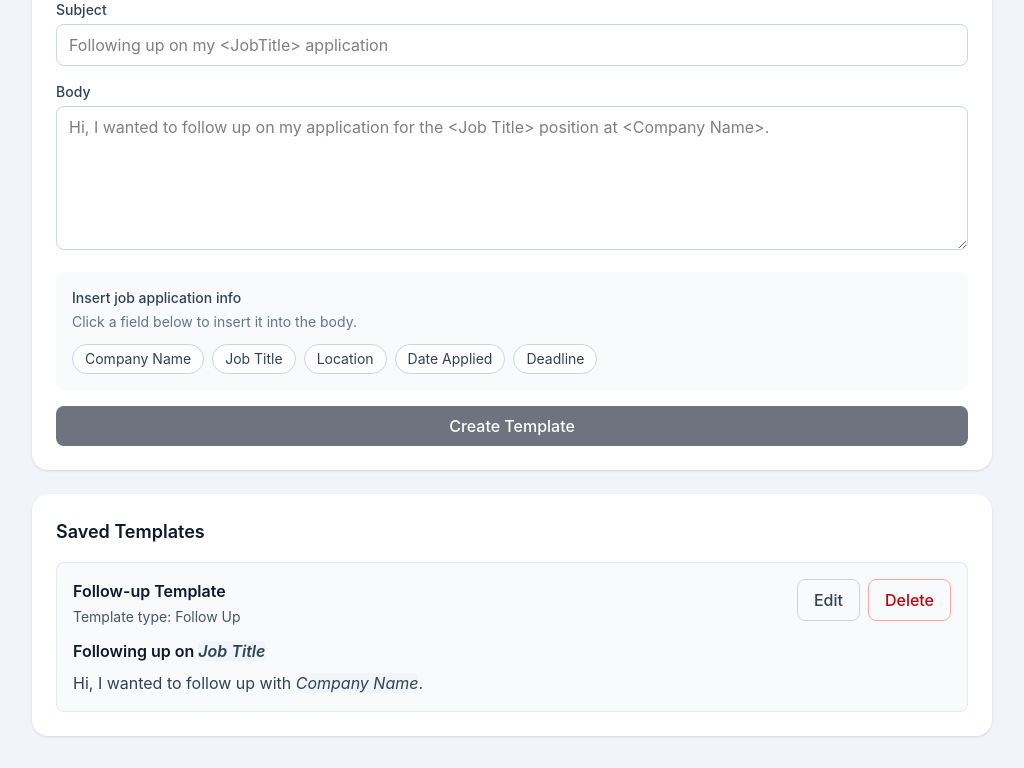
Test: EmailTemplatesPage › loads selected template into the form when Edit is clicked
(page scrolled)
Check: the heading "Follow-up Template" is shown, box [73,581,226,601]
Click the button "Edit".
click(828, 600)  # box [797,579,860,621]
(page scrolled)
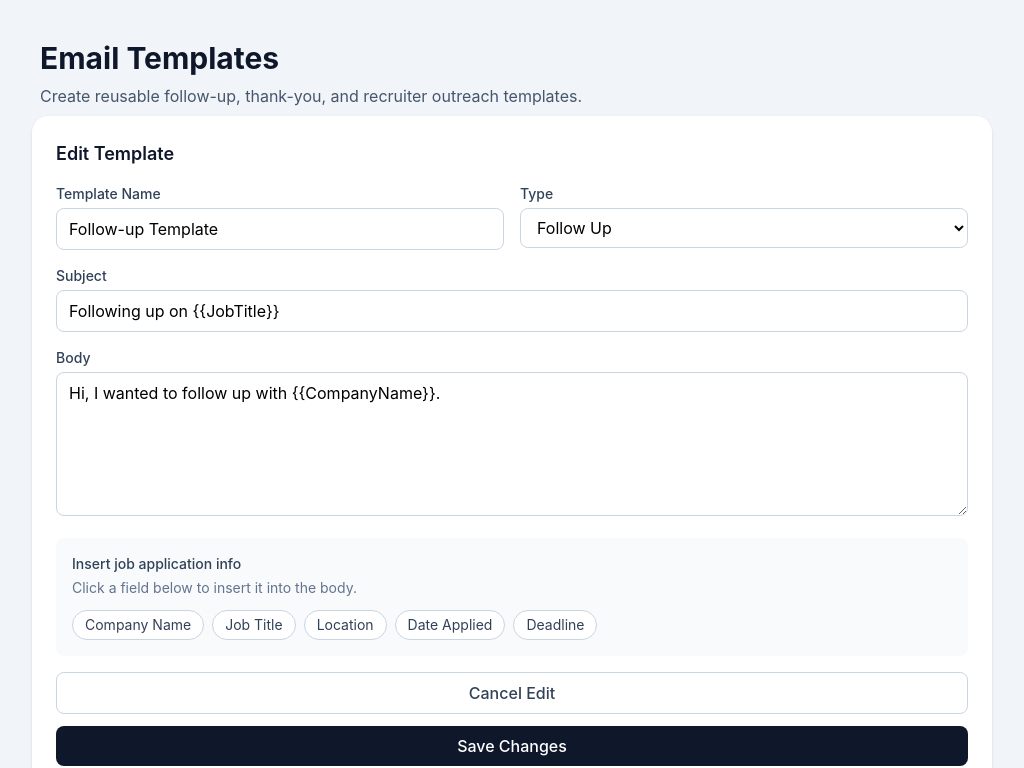
Check: the field labelled "Template Name" holds "Follow-up Template", box [56,208,504,250]
Check: the field labelled "Subject" holds "Following up on {{JobTitle}}", box [56,290,968,332]
Check: the text box labelled "Body" holds "Hi, I wanted to follow up with {{CompanyName}}.", box [56,372,968,516]
